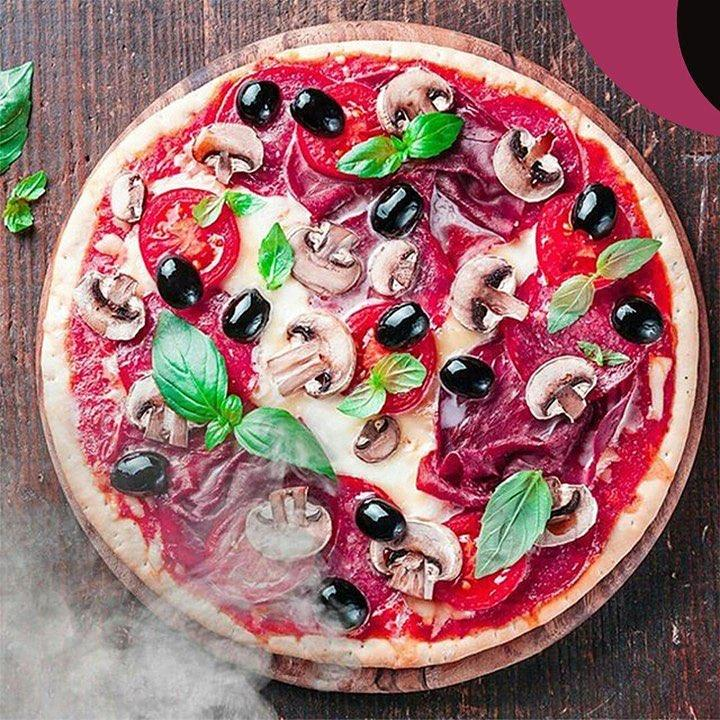Basil: (141, 303, 339, 489), (543, 243, 660, 329), (466, 456, 555, 564), (346, 116, 459, 177)
Ham: (428, 348, 637, 494), (241, 78, 380, 209)
Mushroom: (493, 118, 574, 210), (268, 311, 354, 397), (243, 486, 330, 560), (281, 211, 360, 289), (453, 256, 525, 335), (371, 526, 449, 597), (373, 66, 454, 134), (73, 256, 136, 339), (121, 376, 196, 445), (186, 121, 264, 185), (361, 236, 430, 299), (523, 361, 590, 420), (541, 476, 595, 547), (353, 416, 397, 464), (106, 168, 144, 222)
Olives: (611, 296, 665, 345), (440, 356, 495, 402), (156, 253, 202, 307), (371, 181, 417, 234), (103, 453, 167, 487), (321, 583, 369, 627), (296, 91, 342, 134), (236, 81, 277, 124), (378, 303, 420, 344), (223, 293, 264, 334), (581, 181, 612, 234), (356, 503, 399, 535)
Pizza: (46, 36, 699, 677)
Tomatoes: (136, 186, 234, 297), (331, 301, 430, 405), (433, 501, 524, 604), (533, 201, 615, 294)
